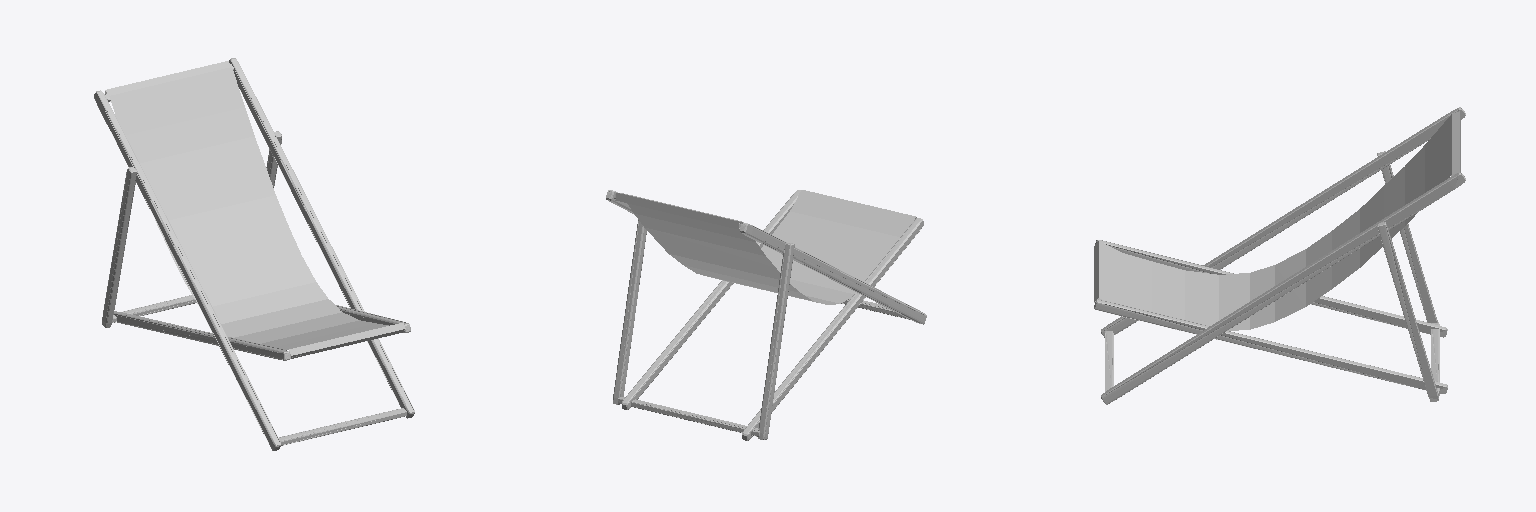
File: chair.obj
3 renders of one model, left to right at view 1: azimuth 30°, elevation 25°; view 2: azimuth 150°, elevation 25°; view 3: azimuth 270°, elevation 25°, orthographic.
Visible parts, largest first — view 1: Plane, stand.010; view 2: Plane, stand.010; view 3: stand.010, Plane.
Part boxes in pixels (bbox=[...]): Plane: bbox=[105, 61, 405, 358]; stand.010: bbox=[94, 58, 414, 450]; Plane: bbox=[615, 190, 916, 304]; stand.010: bbox=[606, 190, 926, 440]; stand.010: bbox=[1094, 107, 1465, 404]; Plane: bbox=[1094, 111, 1460, 330].
Bounding box in the file's own units: 1.68 × 2.42 × 3.54.